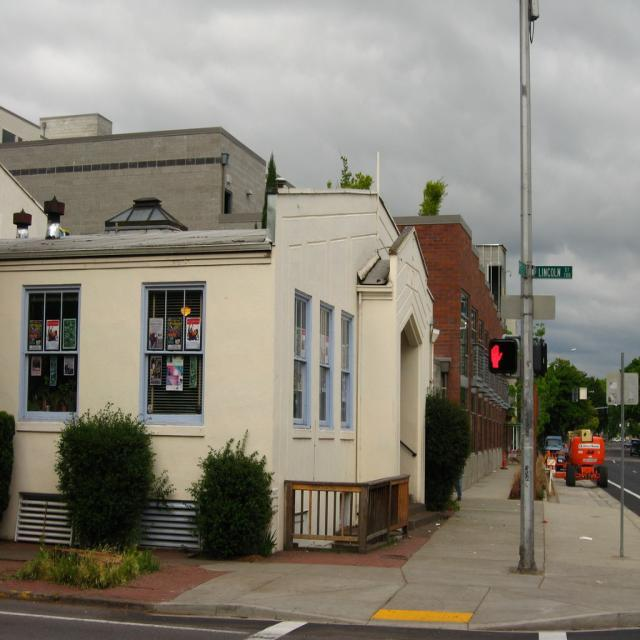traffic light: (489, 341, 517, 374)
